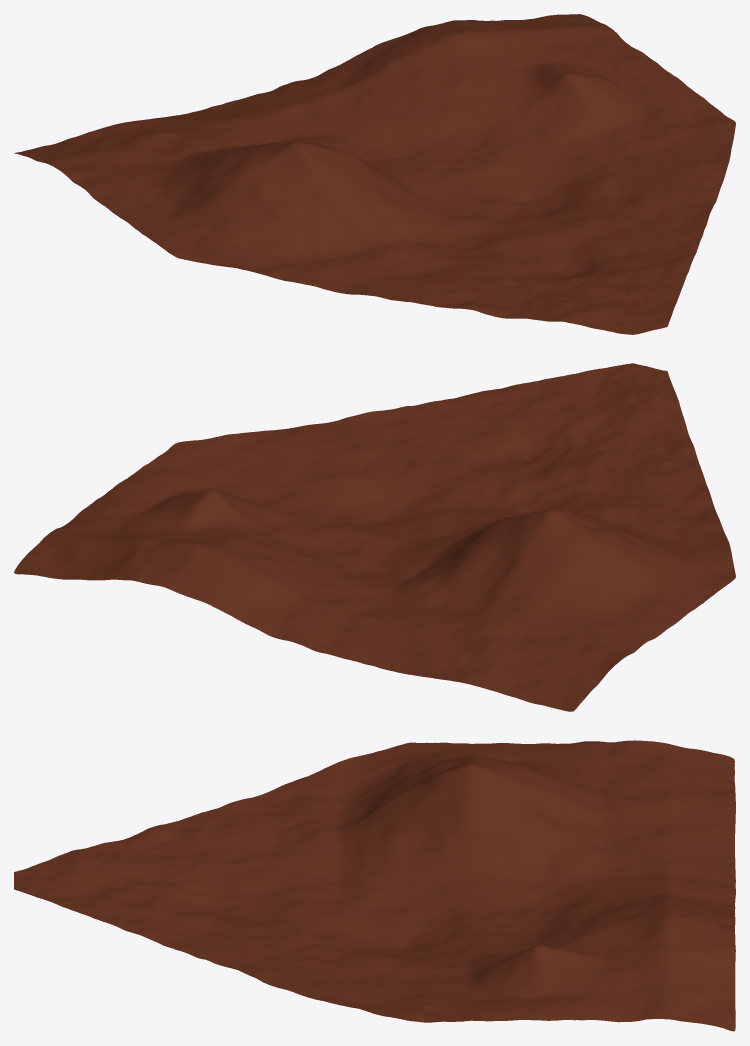
Rendered from terrain.fbx.
The picture shows the model from 3 angles, top to bottom: view 1: azimuth 30°, elevation 25°; view 2: azimuth 150°, elevation 25°; view 3: azimuth 270°, elevation 25°; orthographic projection.
Parts seen in each view (by area): view 1: Plane; view 2: Plane; view 3: Plane.
Part boxes in pixels (box(x1,y1,x2,y2)): Plane: box(14, 14, 735, 334); Plane: box(14, 363, 735, 711); Plane: box(14, 740, 735, 1031).
Size of the model in its own units: 20014 by 2822 by 22084.
